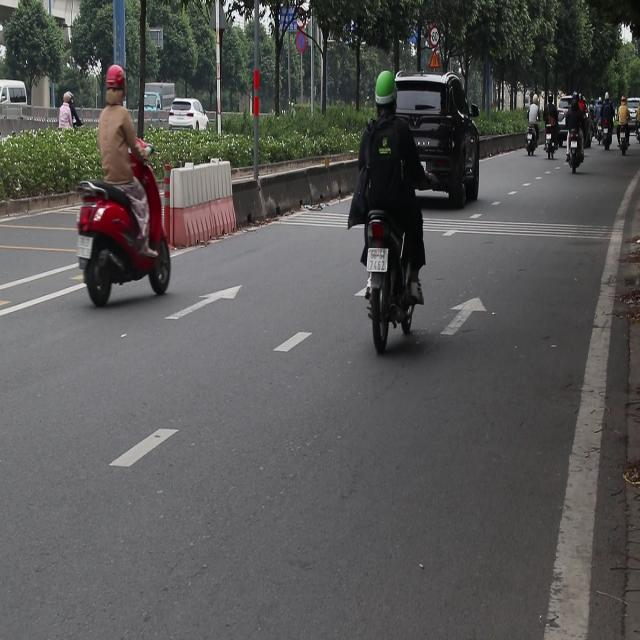car: (392, 71, 483, 209), (170, 100, 210, 134), (1, 80, 28, 112)
motorbike: (78, 172, 174, 306), (362, 202, 427, 340), (560, 123, 584, 172), (59, 118, 83, 154), (612, 115, 628, 156), (544, 126, 560, 160), (524, 123, 538, 156), (602, 114, 610, 154)
truck: (144, 82, 175, 112)
